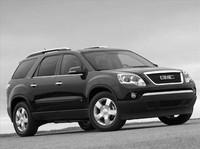car: (7, 46, 195, 148)
